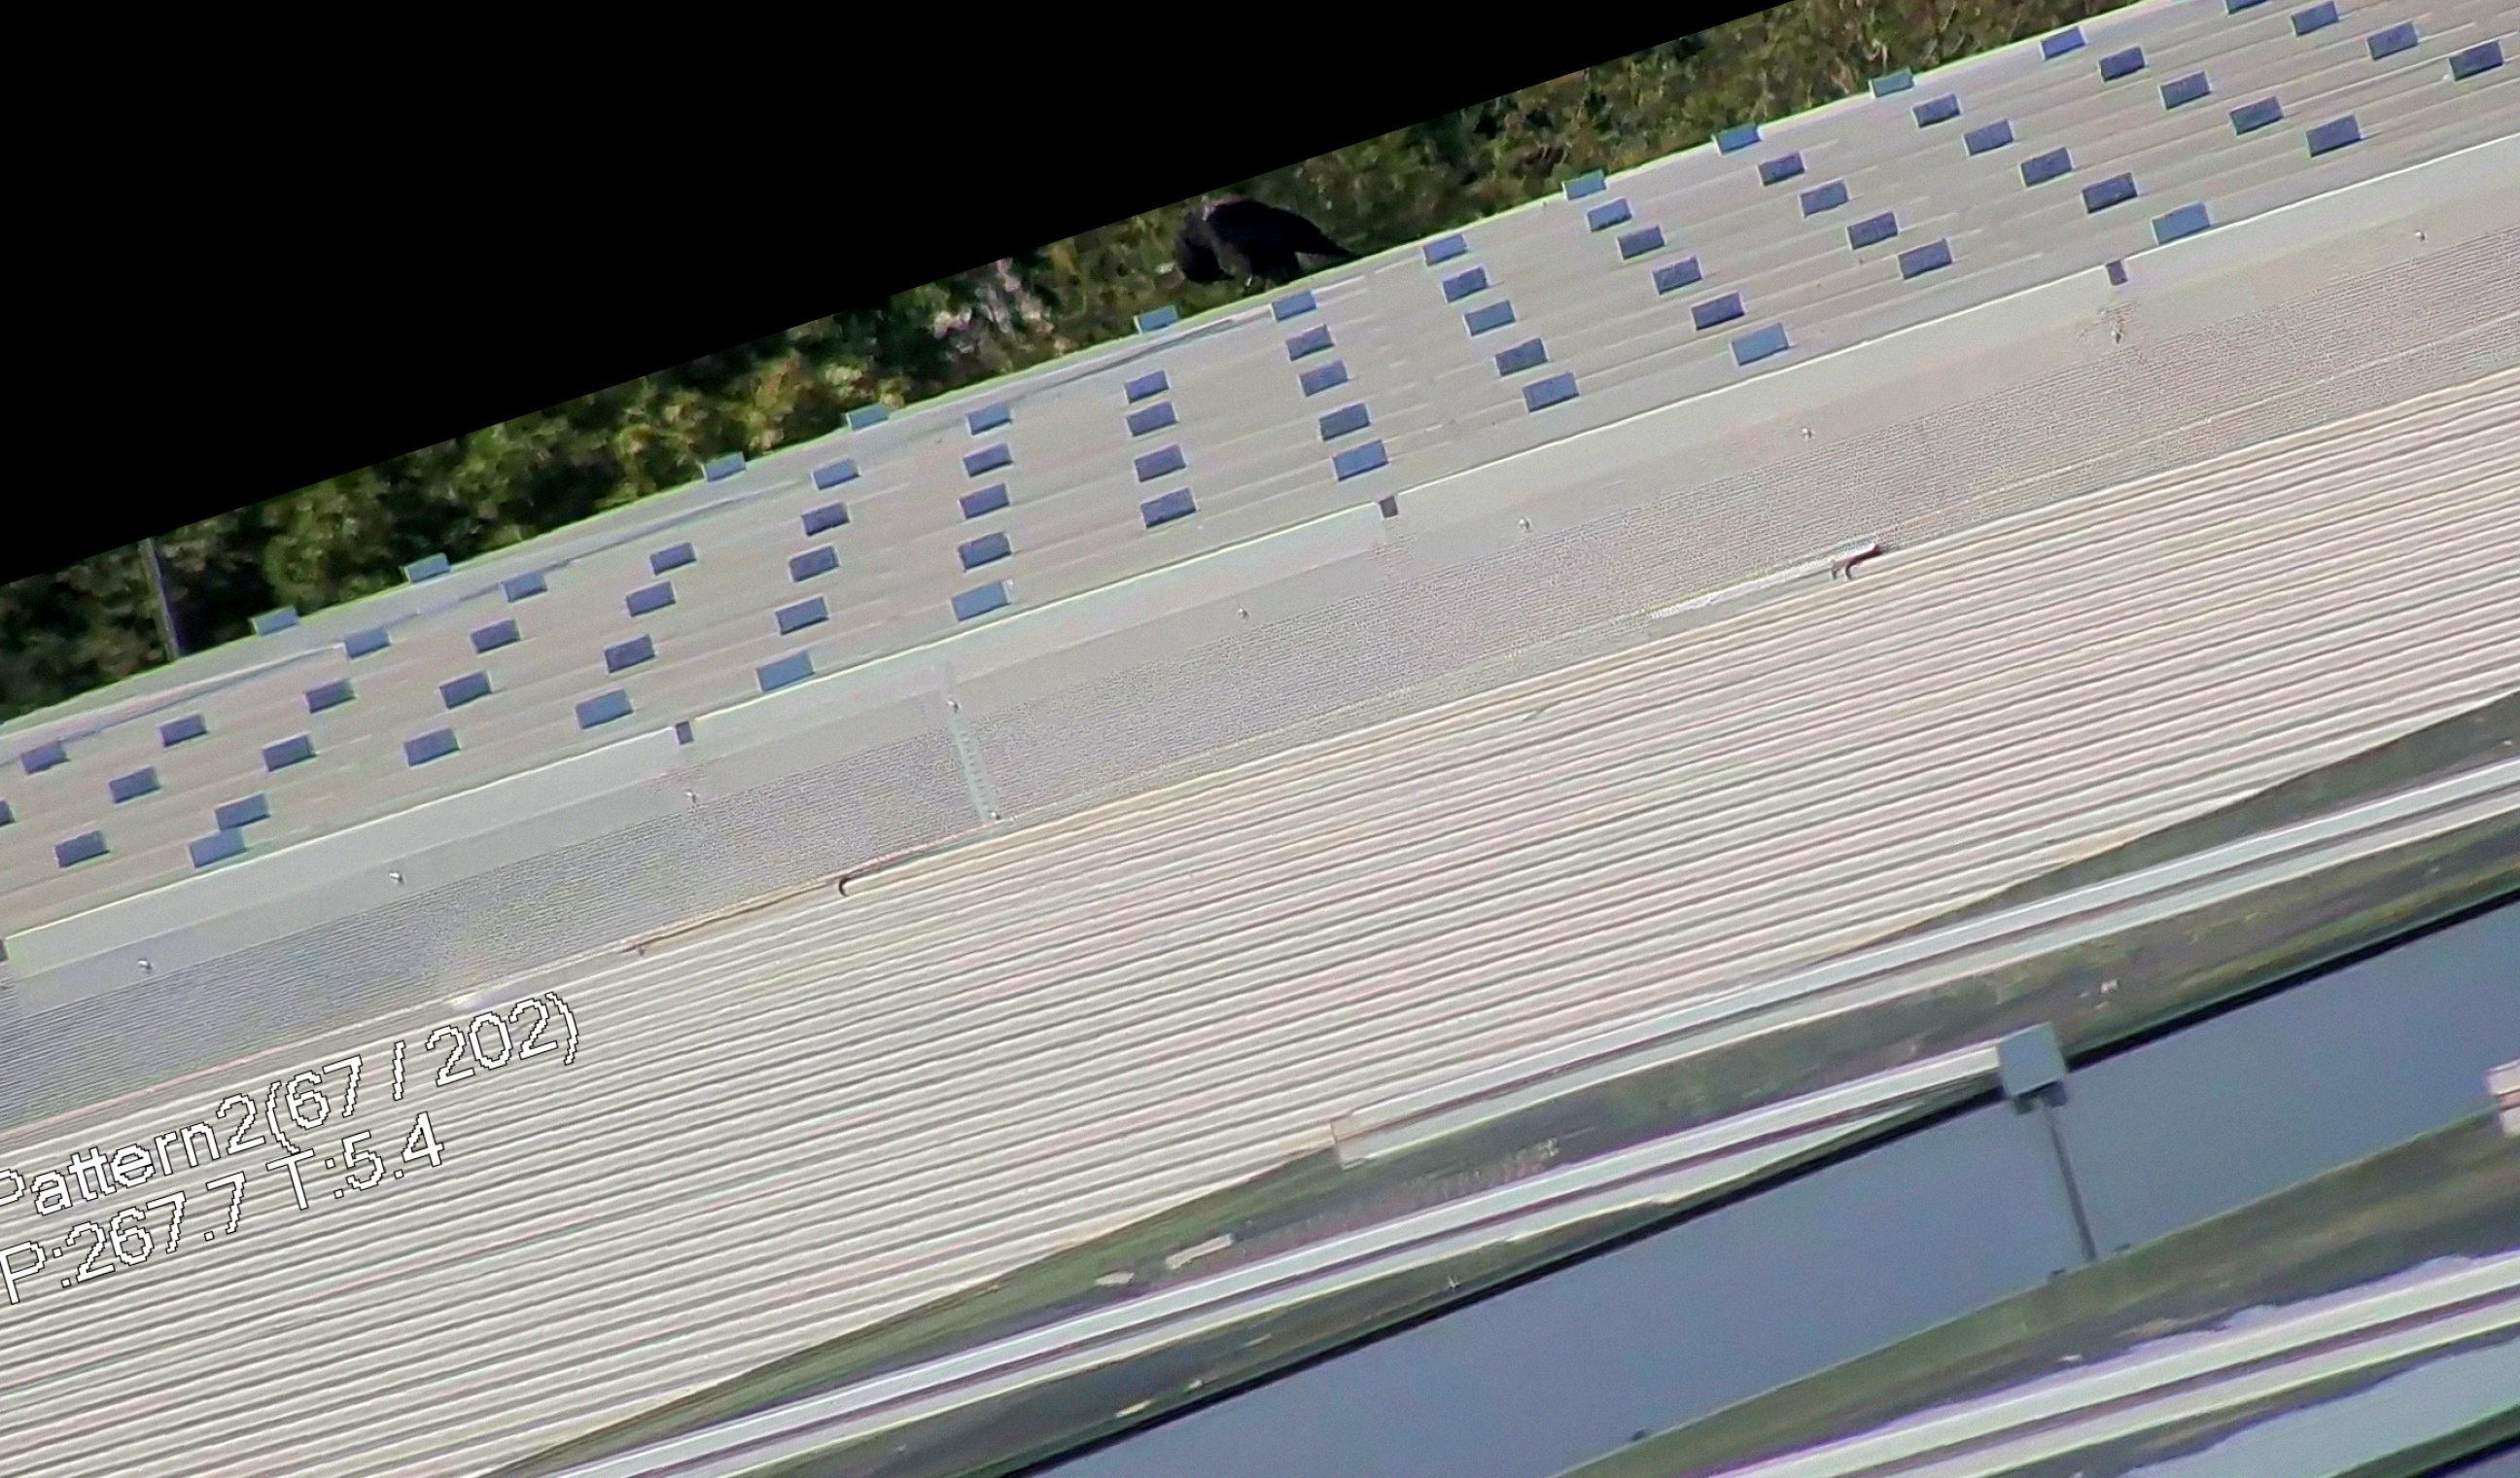Other: (1152, 158, 1356, 313)
